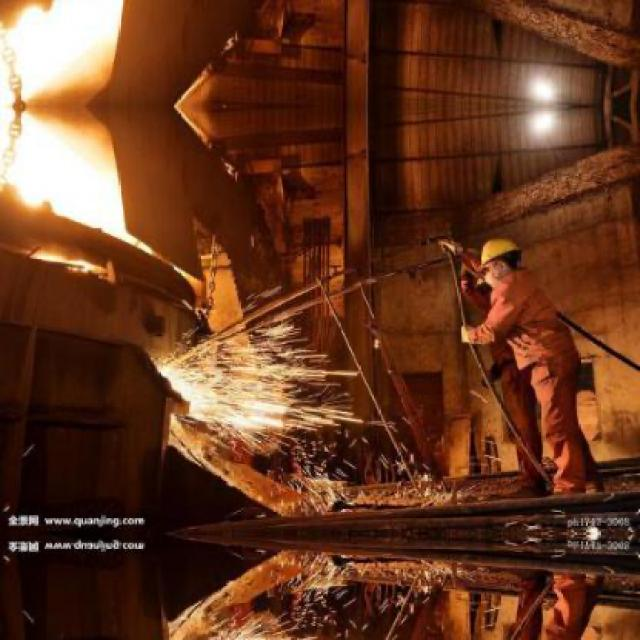helmet: (477, 230, 528, 294)
